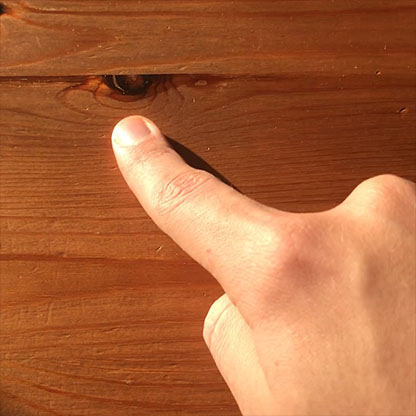fingertip: (93, 108, 168, 161)
